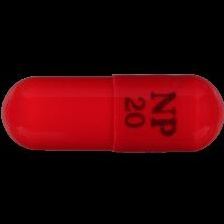29033-013: (0, 0, 224, 224)
